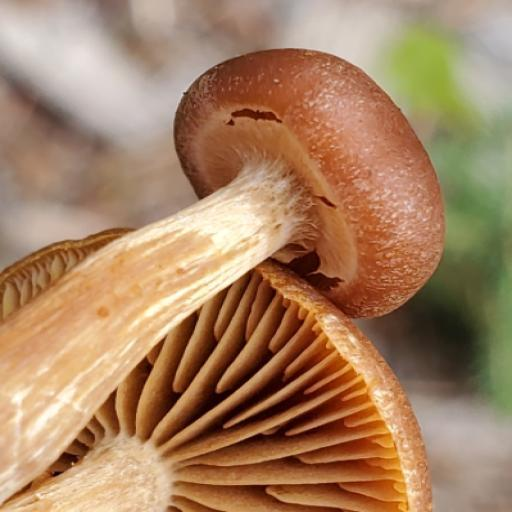mushroom: (19, 46, 451, 501)
